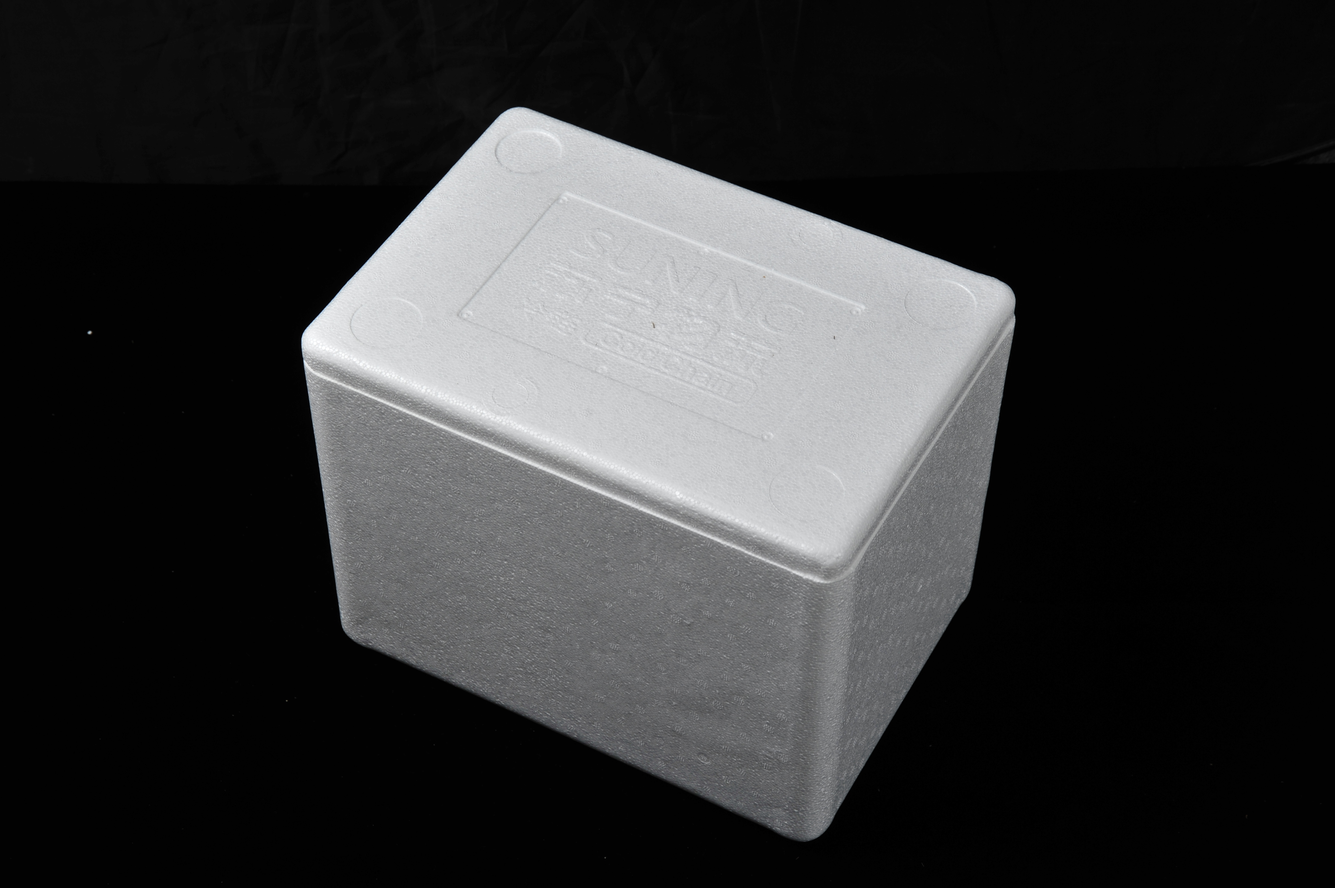泡沫箱: (303, 108, 1012, 838)
